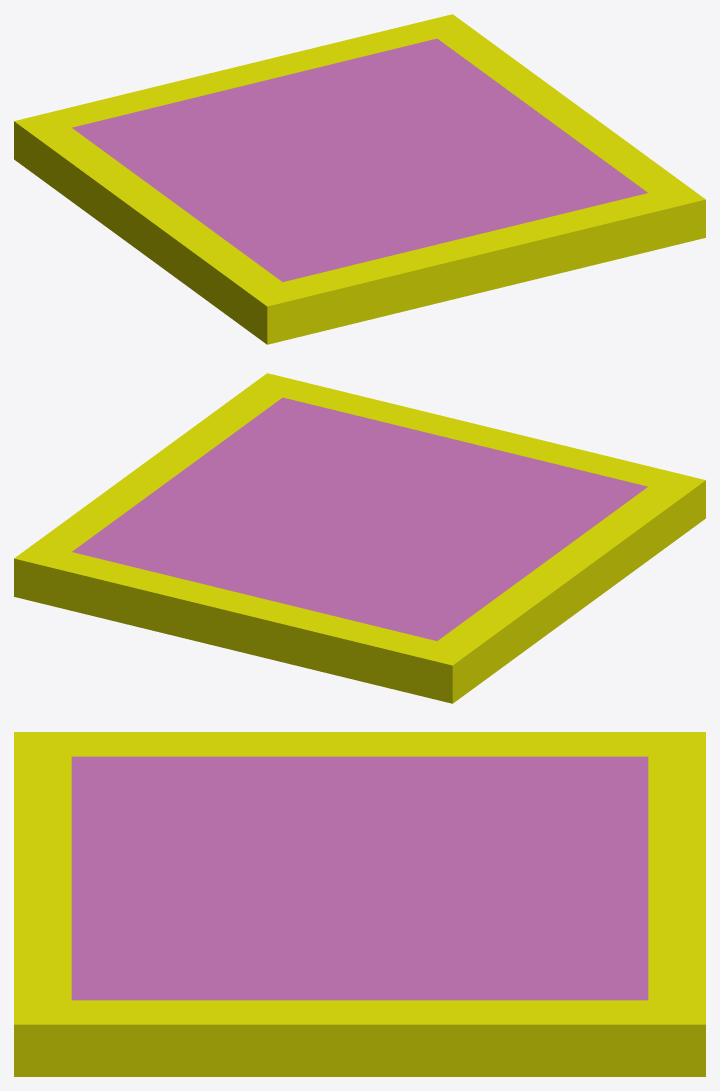
The model's file is AfterTile.fbx.
The picture shows the model from 3 angles, top to bottom: view 1: azimuth 30°, elevation 25°; view 2: azimuth 150°, elevation 25°; view 3: azimuth 270°, elevation 25°; orthographic projection. The views are drawn at different scales.
Parts seen in each view (by area): view 1: pCube1, pasted__pCube2, pCube4, pCube3, pasted__pCube3; view 2: pCube1, pasted__pCube3, pCube4, pasted__pCube2, pCube3; view 3: pCube1, pCube3, pasted__pCube3, pCube4, pasted__pCube2.
Boxes of the visible parts, x1,y1,x2,y2 form: pCube1: (72, 38, 647, 281); pasted__pCube2: (246, 193, 669, 344); pCube4: (14, 112, 282, 328); pCube3: (437, 29, 705, 246); pasted__pCube3: (51, 14, 473, 127); pCube1: (72, 397, 647, 640); pasted__pCube3: (14, 543, 436, 694); pCube4: (416, 487, 684, 703); pasted__pCube2: (283, 382, 705, 533); pCube3: (35, 373, 303, 551); pCube1: (71, 756, 648, 1000); pCube3: (14, 1000, 648, 1076); pasted__pCube3: (648, 756, 705, 1076); pCube4: (71, 732, 705, 756); pasted__pCube2: (14, 732, 71, 1000).
Bounding box in the file's own units: 12 × 1 × 12.
